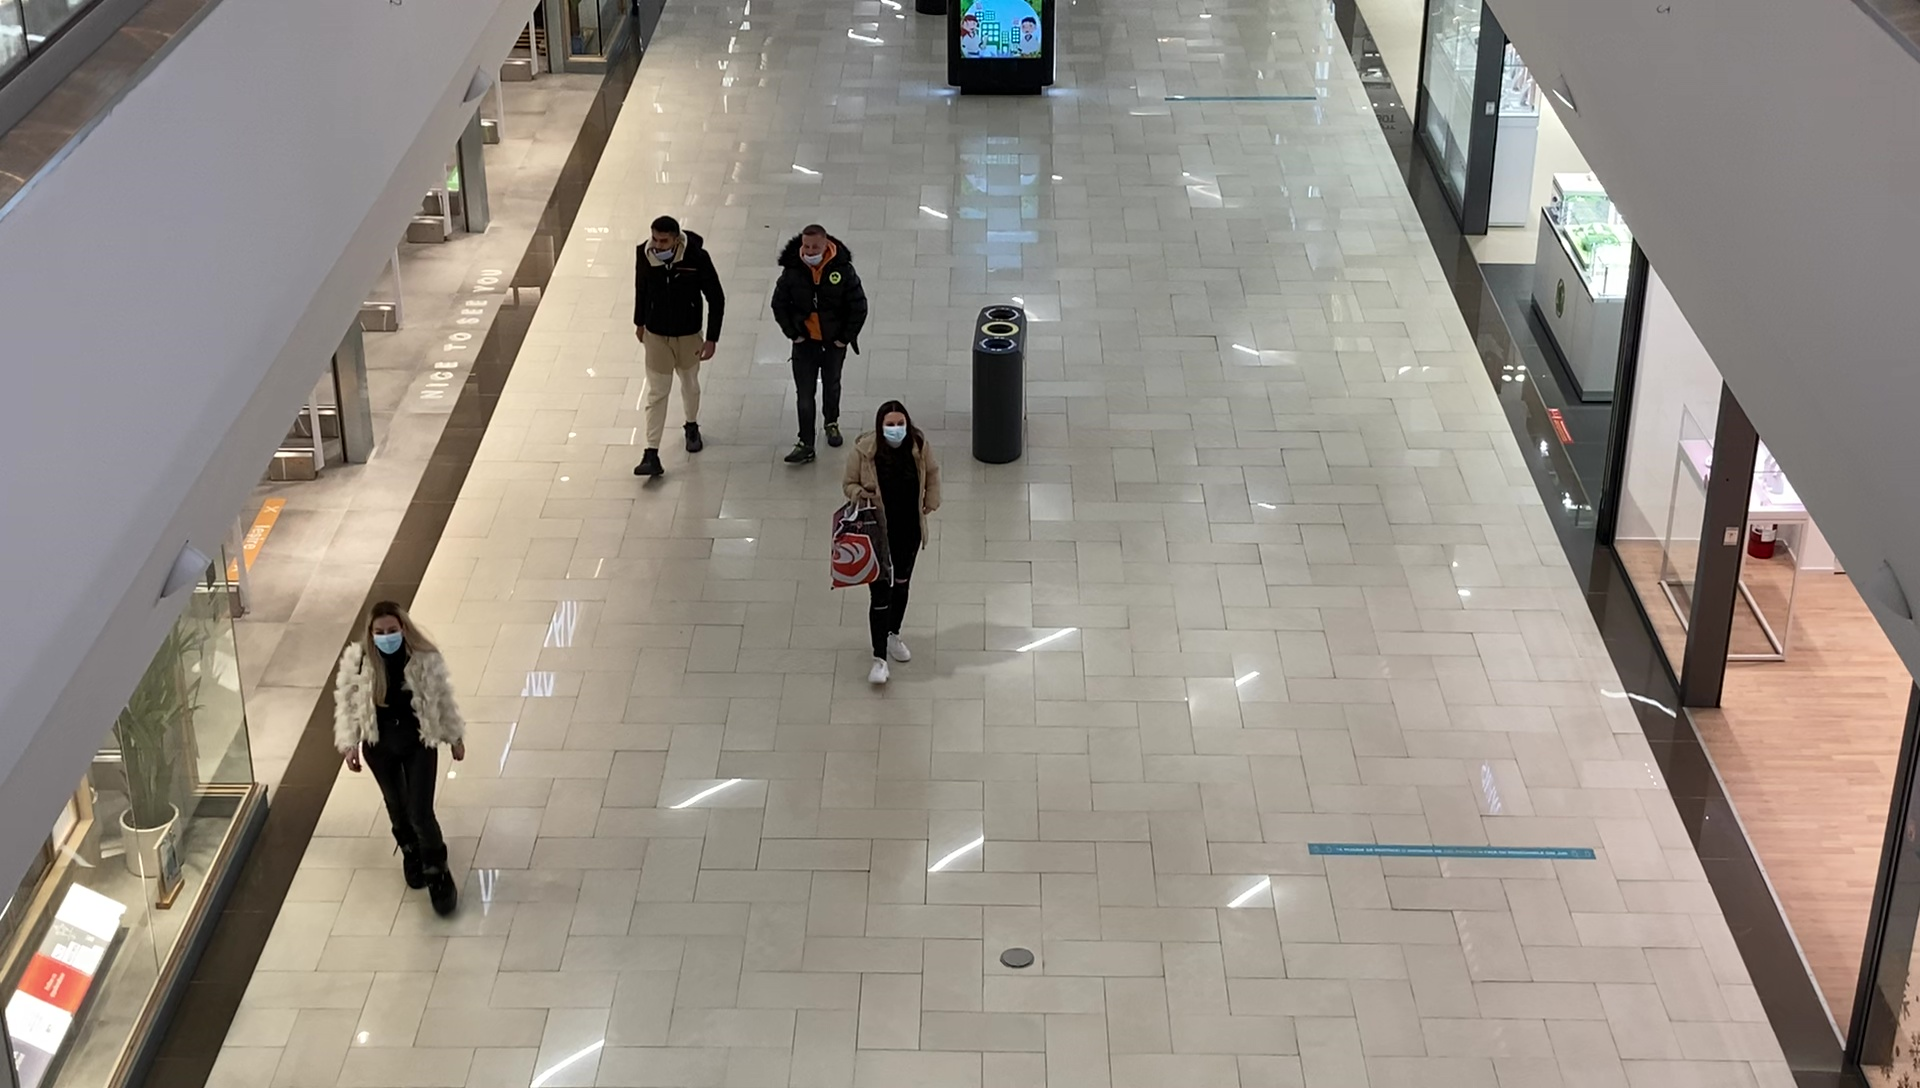person: (333, 603, 469, 919), (845, 400, 944, 689), (632, 215, 726, 479), (770, 224, 870, 462)
